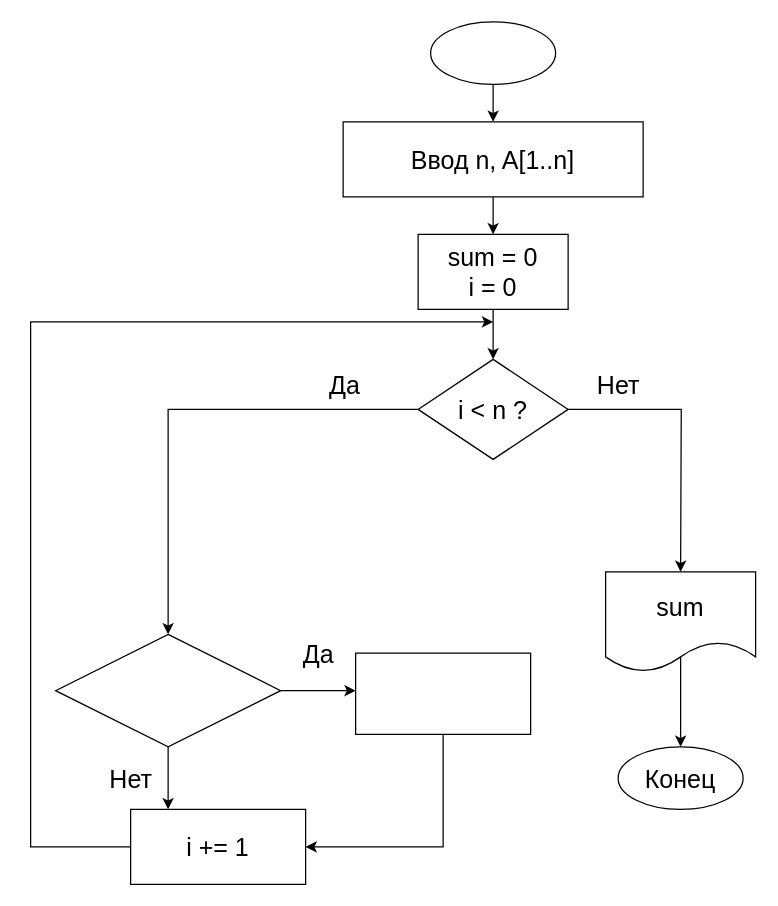
This 778x906 diagram has some shape labels left out. The shapes that lost their labels are listed below. From the top down, each one's centre as x and y in pixels, then its label:
At pixel 492 52: "Начало".
At pixel 167 690: "a[i] % 2 != 0 ?".
At pixel 442 693: "sum = sum + a[i]".
